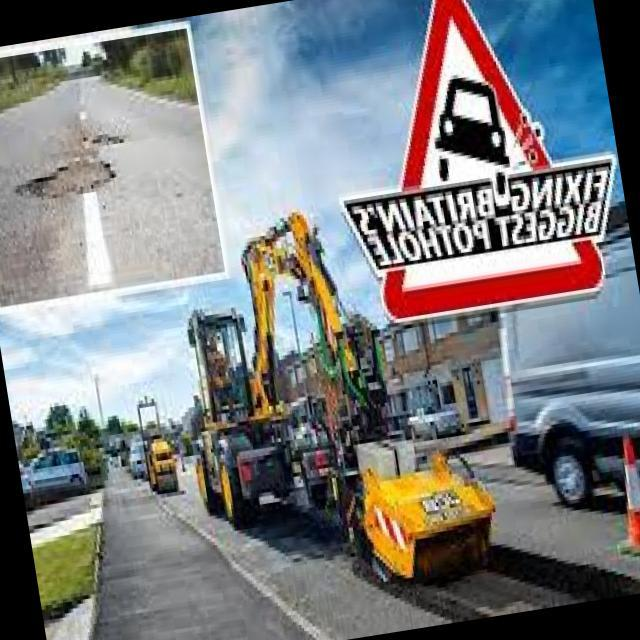Pothole: (22, 158, 103, 202)
